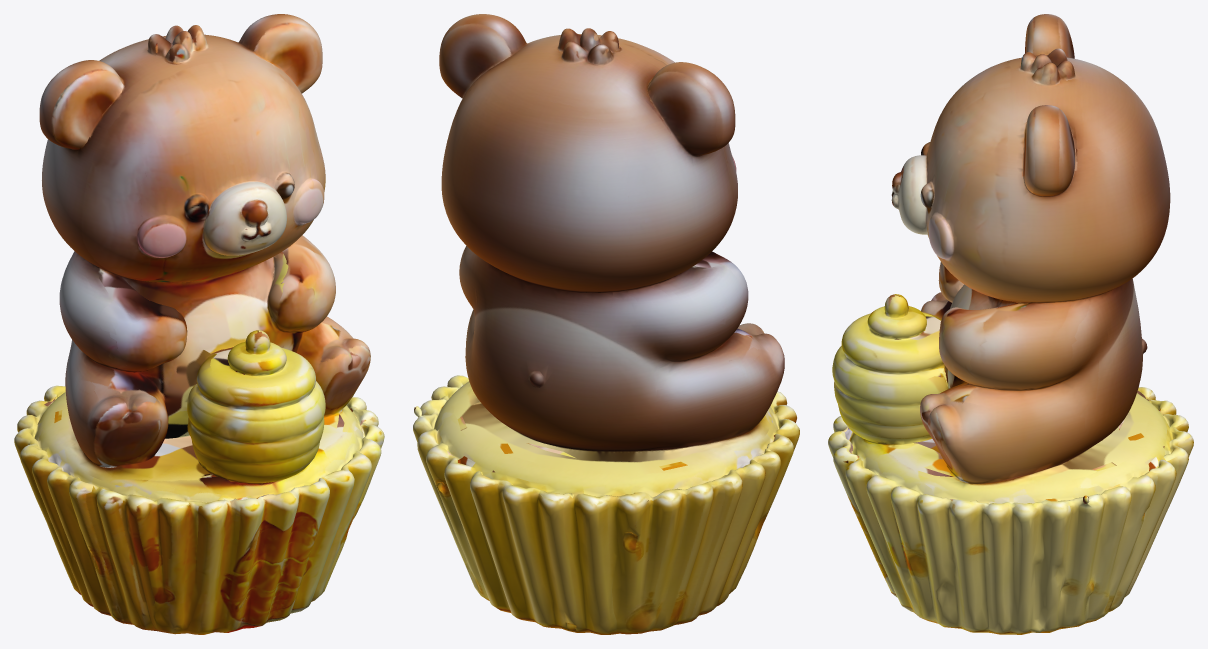
The model's file is t2ewhg0k.glb.
3 renders of one model, left to right at view 1: azimuth 30°, elevation 25°; view 2: azimuth 150°, elevation 25°; view 3: azimuth 270°, elevation 25°, orthographic. The views are drawn at different scales.
Visible parts, largest first — view 1: Bear; view 2: Bear; view 3: Bear.
Part boxes in pixels (box(x1,y1,x2,y2)): Bear: box(14, 14, 384, 634); Bear: box(413, 14, 799, 634); Bear: box(828, 14, 1193, 634).
Size of the model in its own units: 0.1083 by 0.18 by 0.1102.
1 material, 1 textured.
